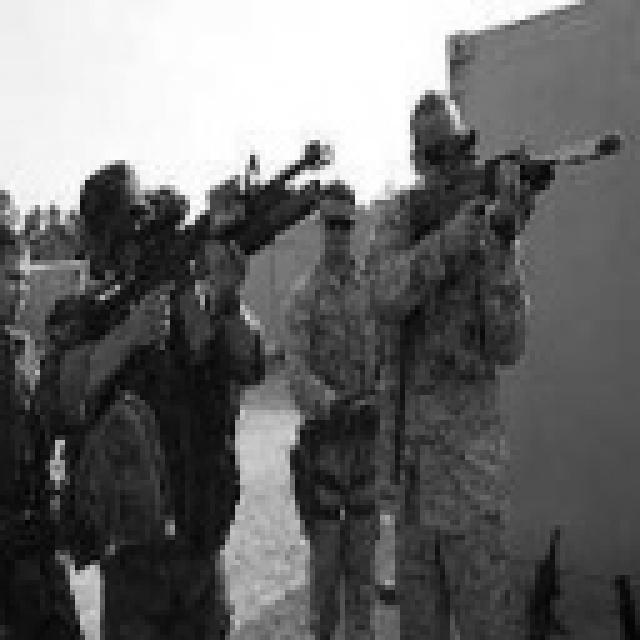Rifle: (0, 125, 350, 370), (392, 127, 640, 268), (496, 501, 587, 640)
